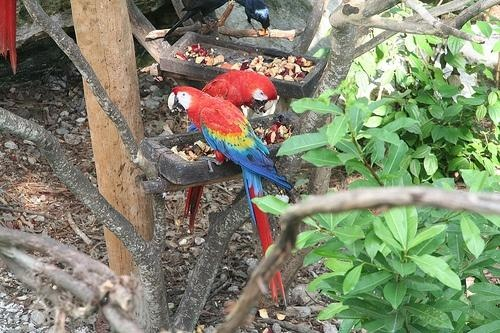bird: (167, 86, 288, 304), (185, 70, 281, 227)
